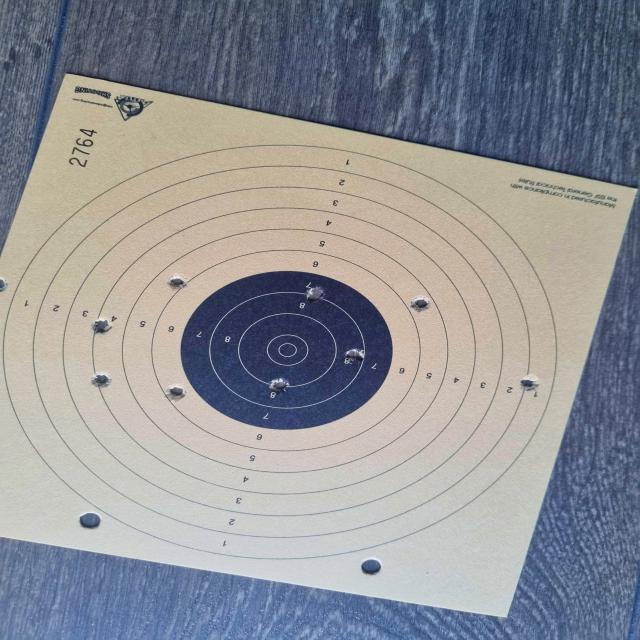0: (0, 278, 9, 292)
2: (520, 378, 540, 391)
4: (91, 320, 112, 334), (91, 375, 111, 388)
5: (410, 296, 431, 312)
6: (166, 387, 187, 401), (170, 278, 188, 290)
8: (306, 286, 325, 304), (345, 348, 366, 363)
9: (268, 379, 290, 394)
Target: (1, 145, 559, 560)
black_contour: (179, 270, 392, 430)
